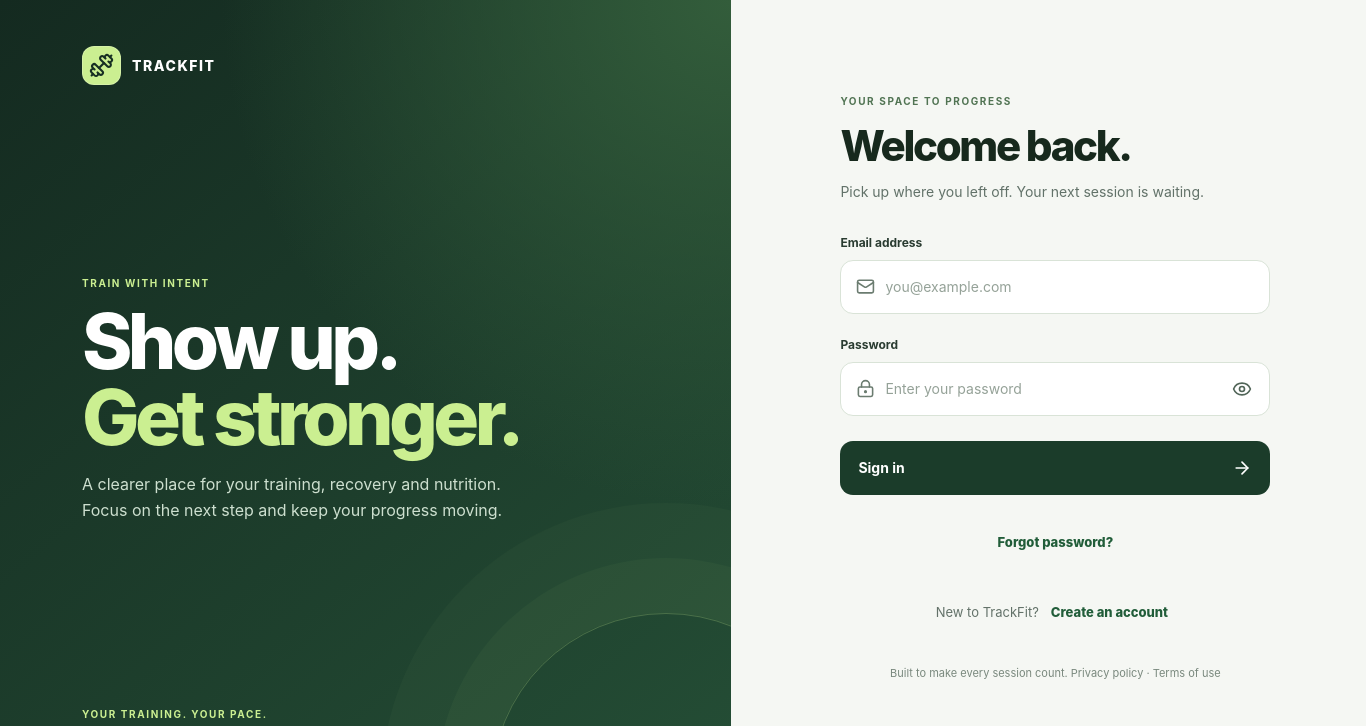
Test: TrackFit account password setup › rejects mismatched confirmation before contacting Supabase
Click the button "Create an account".
click(1109, 612)  # box [1044,590,1175,634]
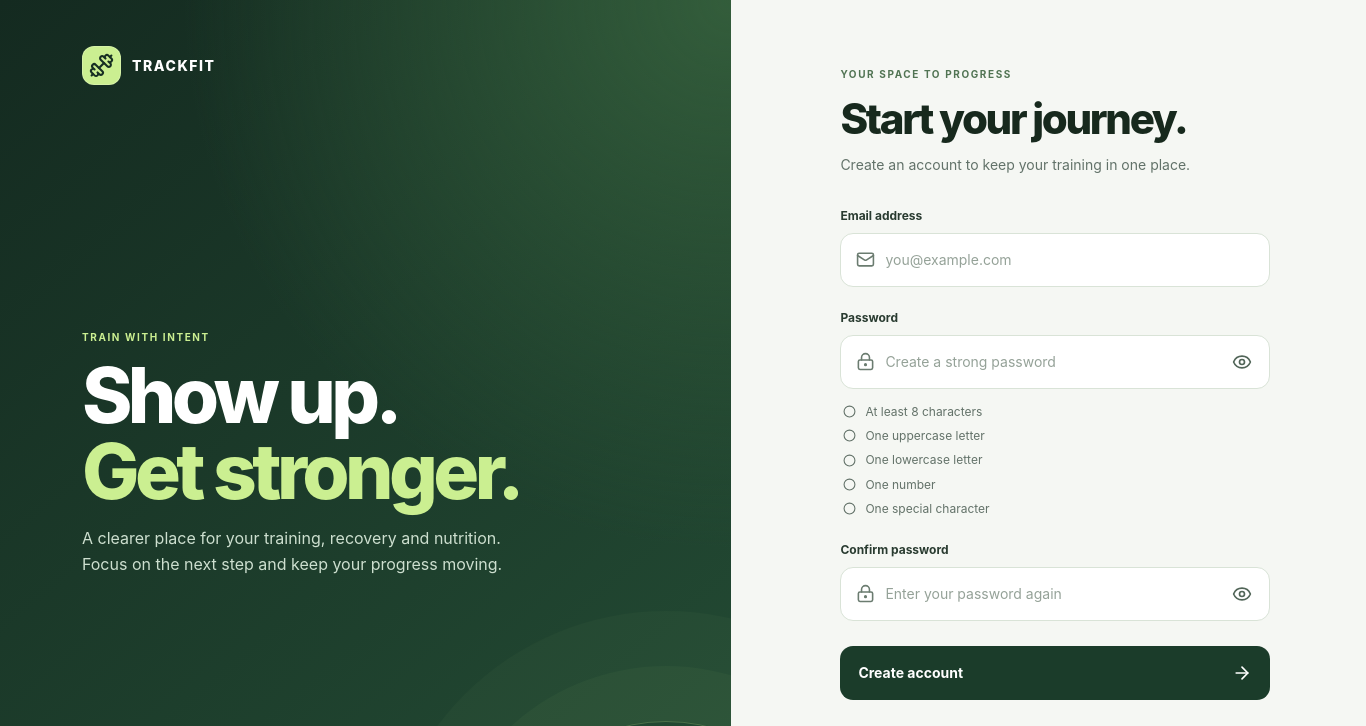
Type "tester@example.com" into the field labelled "Email address".
click(1070, 260); type("tester@example.com")  # box [885,234,1254,286]
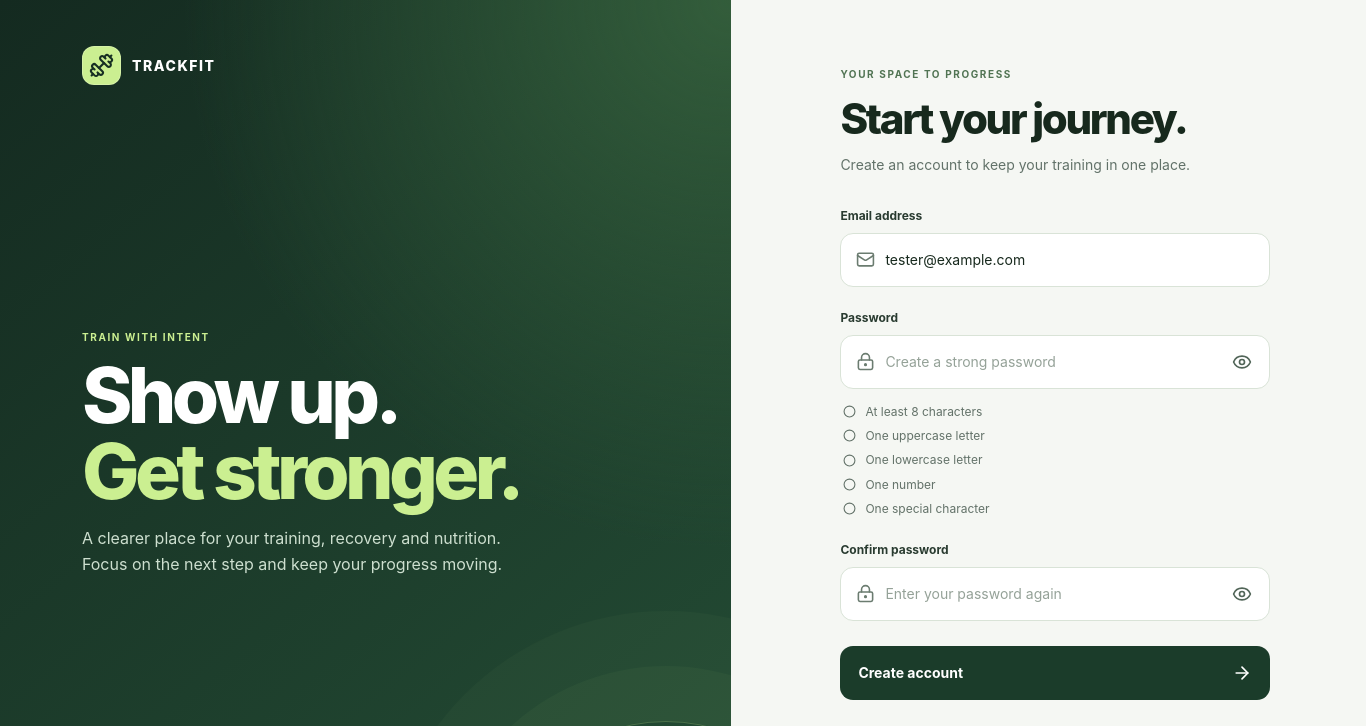
Type "StrongPass1!" into the password field labelled "Password".
click(1048, 362); type("StrongPass1!")  # box [885,336,1210,388]
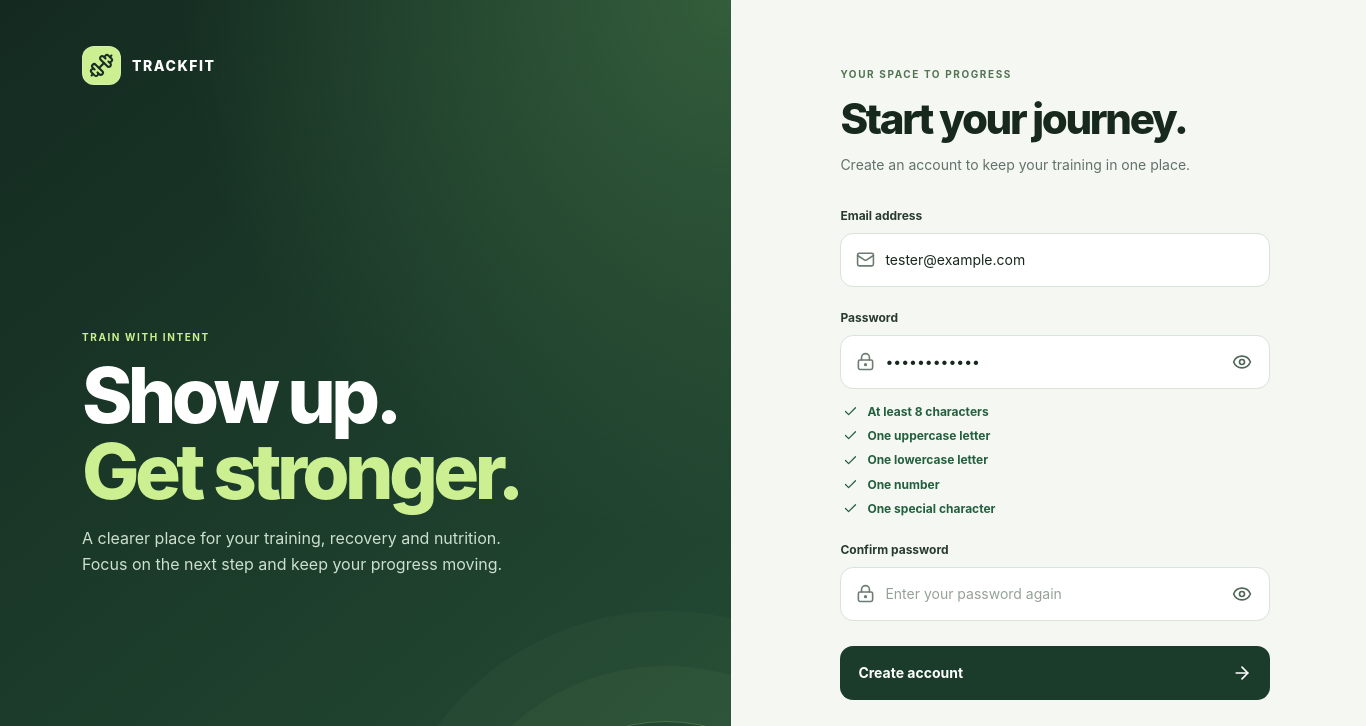
Type "StrongPass2!" into the password field labelled "Confirm password".
click(1048, 594); type("StrongPass2!")  # box [885,568,1210,620]
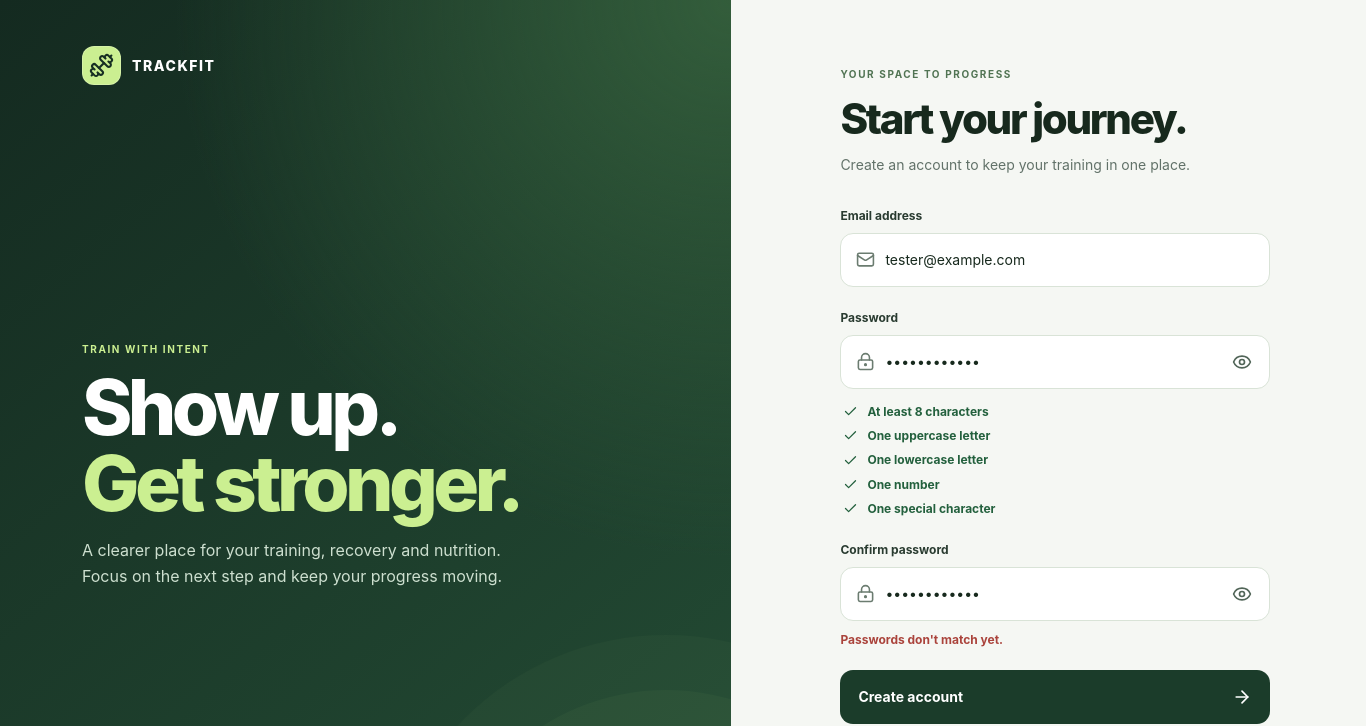
Submit the form named "Create account", box [840,207,1270,724]
(page scrolled)
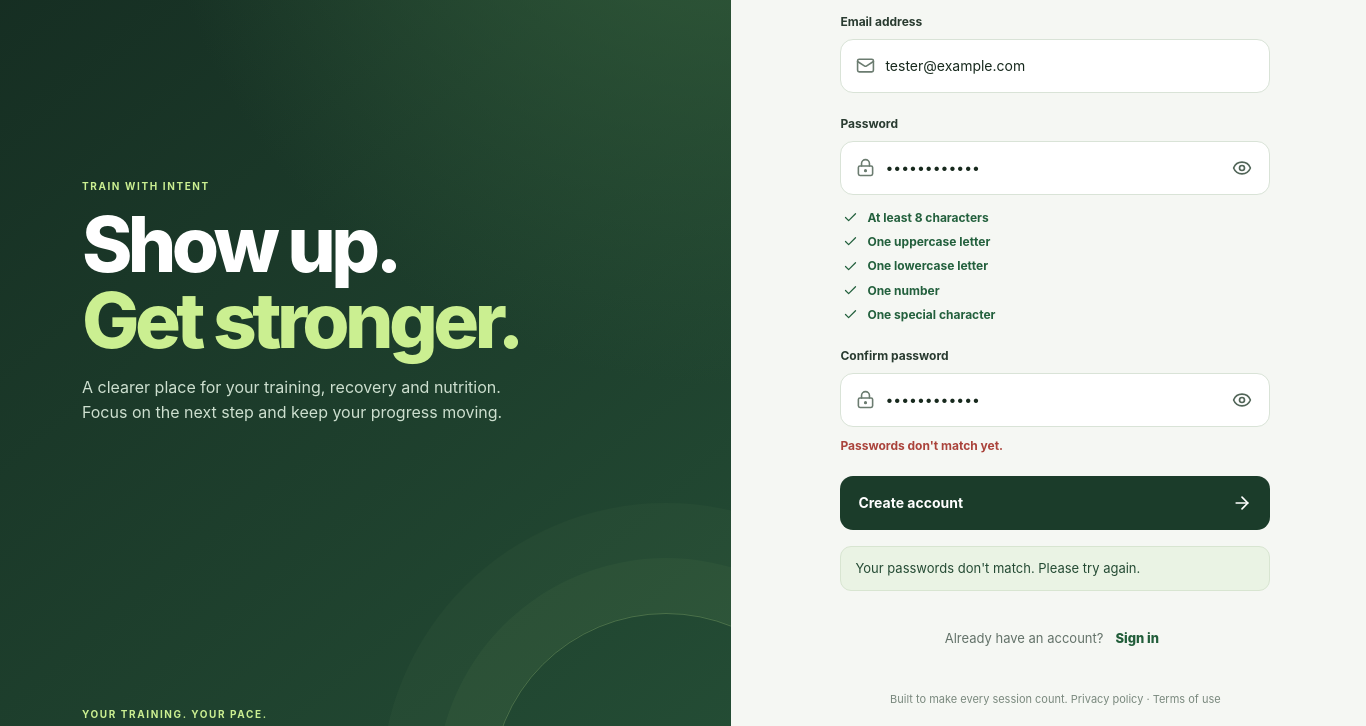
expect the text "Your passwords don't match. Please try again." is shown: met, box [840,546,1270,591]
